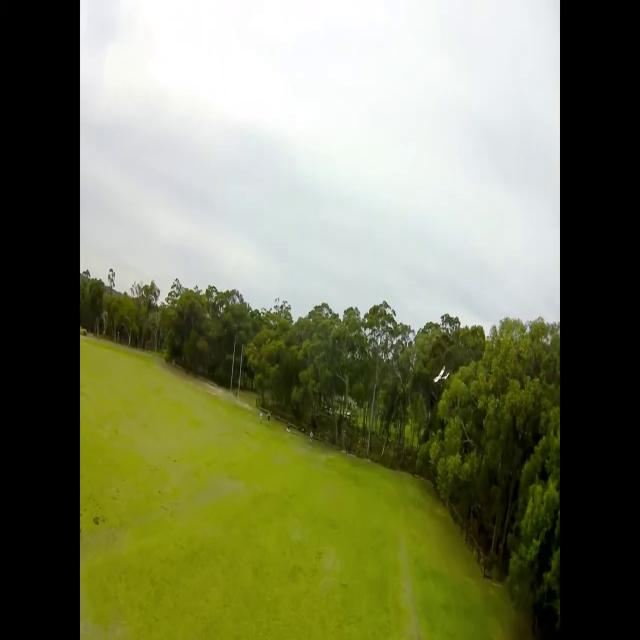iha: (433, 368, 449, 384)
